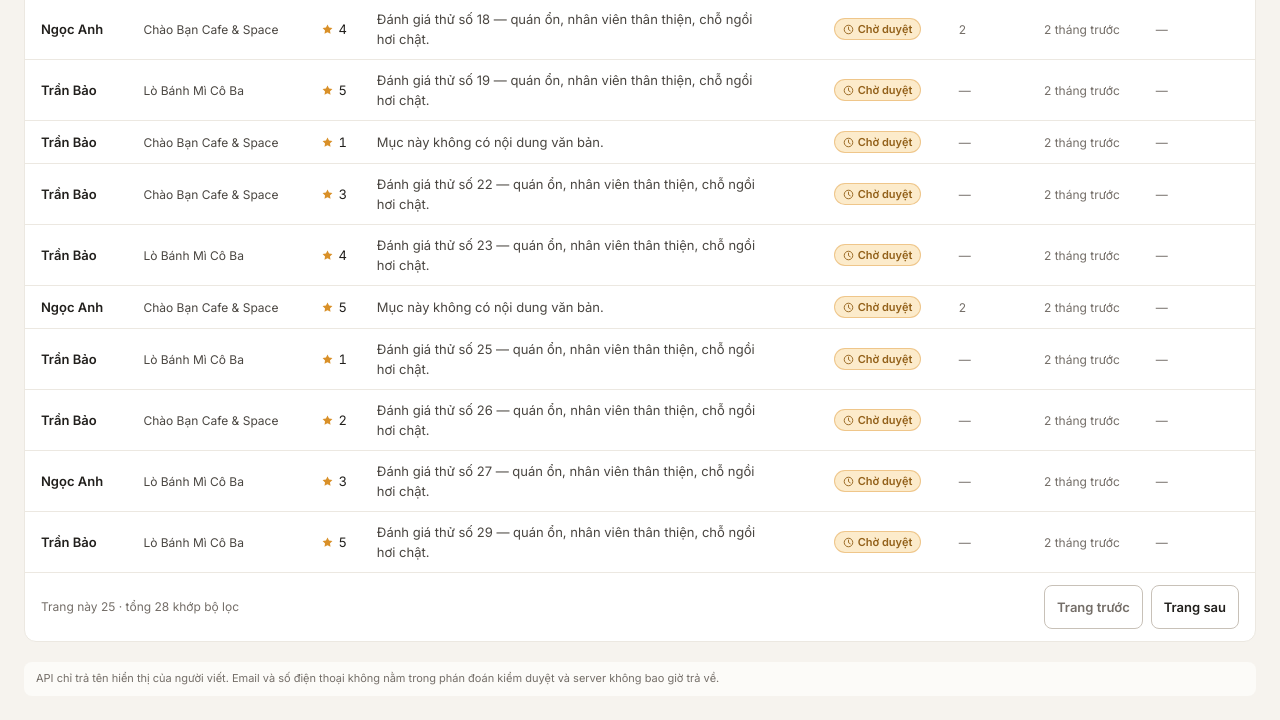
Test: review queue — server-side (CMS-031, finishes CMS-022) › walks pages with the keyset cursor
(page scrolled)
Expected: the button "Trang trước" is disabled, [1044,585,1143,629]
Step 1. Click the button "Trang sau" → point(1195, 607), box [1151,585,1239,629]
(page scrolled)
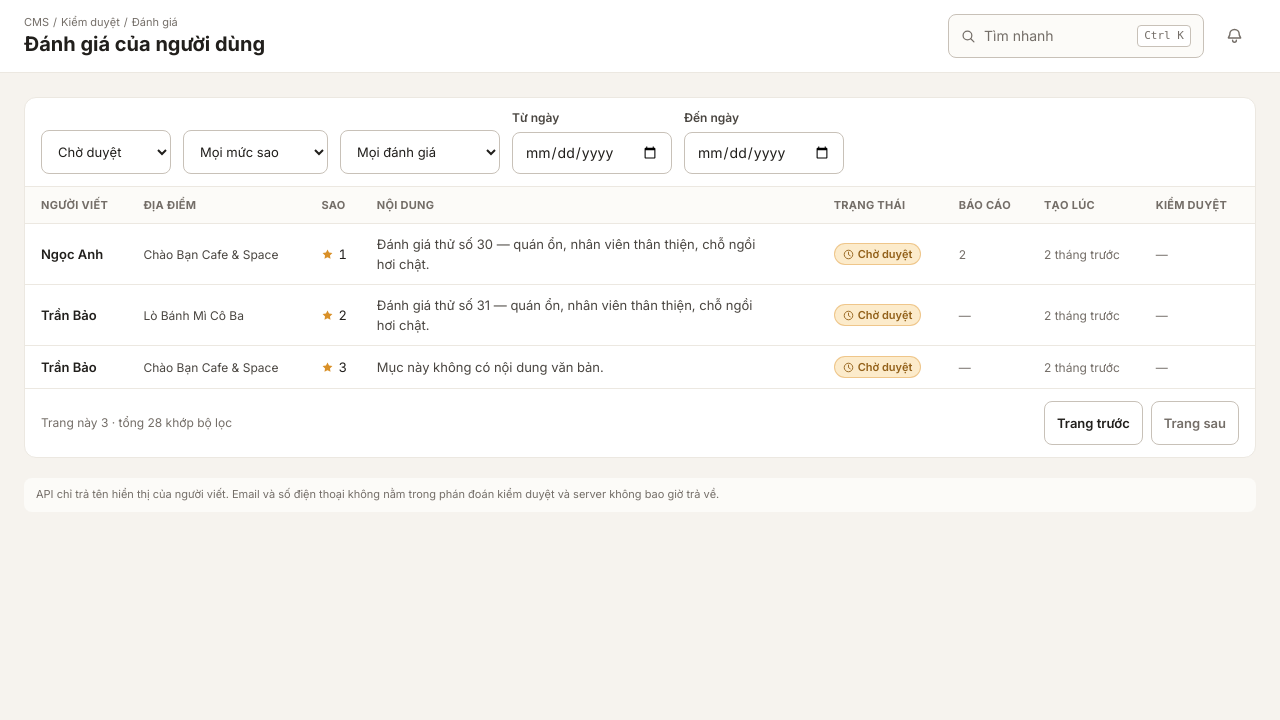
Now the button "Trang trước" is enabled, box [1044,401,1143,445]
